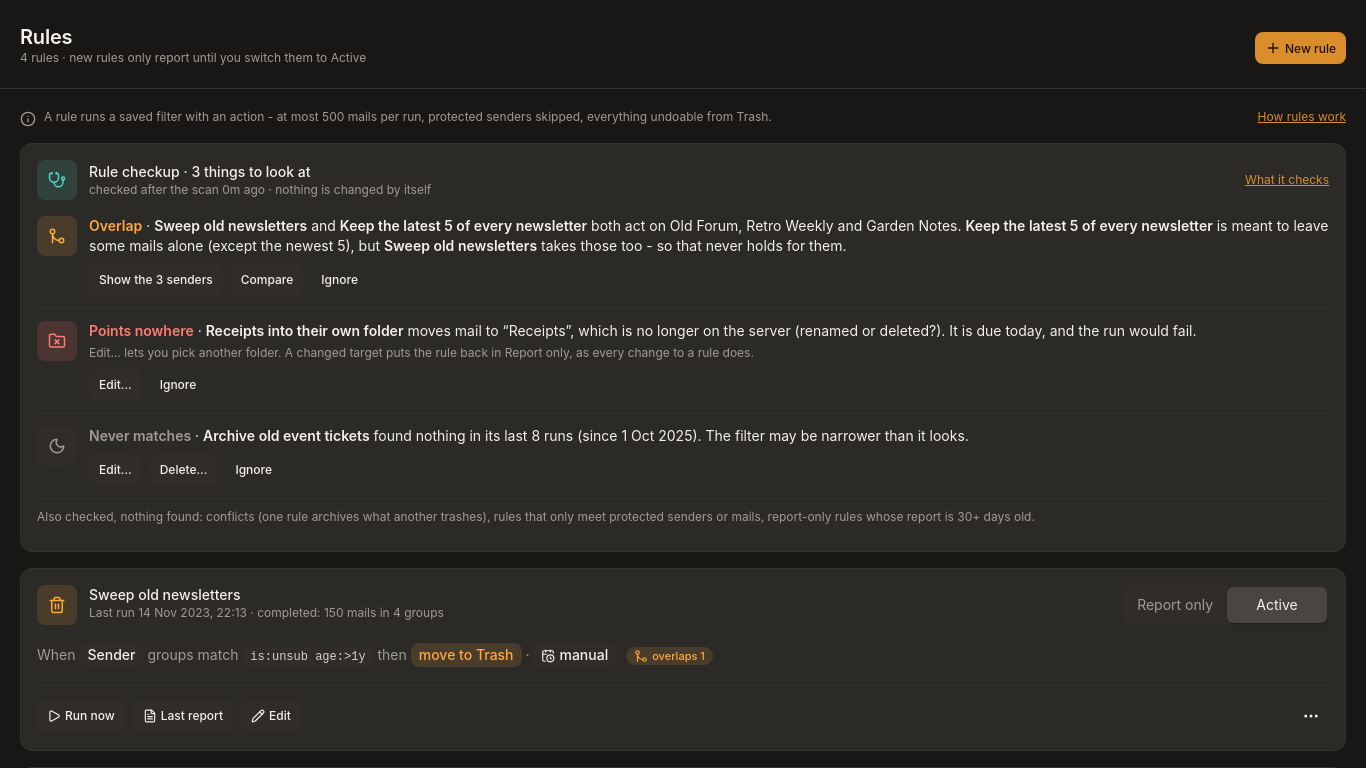
Compare: the bars, the senders in common, the note and an Edit per rule
Click the button "Compare" at (267,280), box [231, 264, 303, 296]
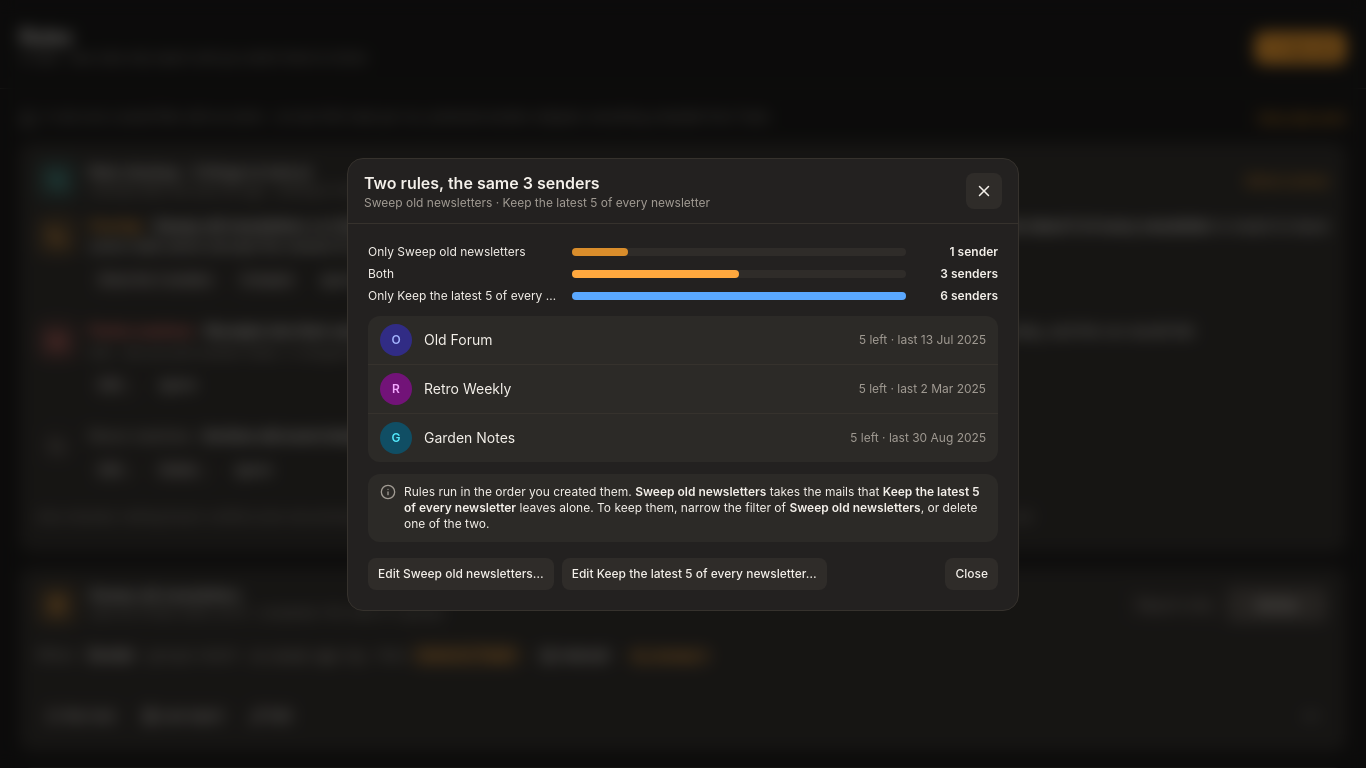
# each Edit… opens that rule in the editor and closes the sheet
Click the button "Edit Keep the latest 5 of every newsletter…" at (694,574), box [562, 558, 827, 590]
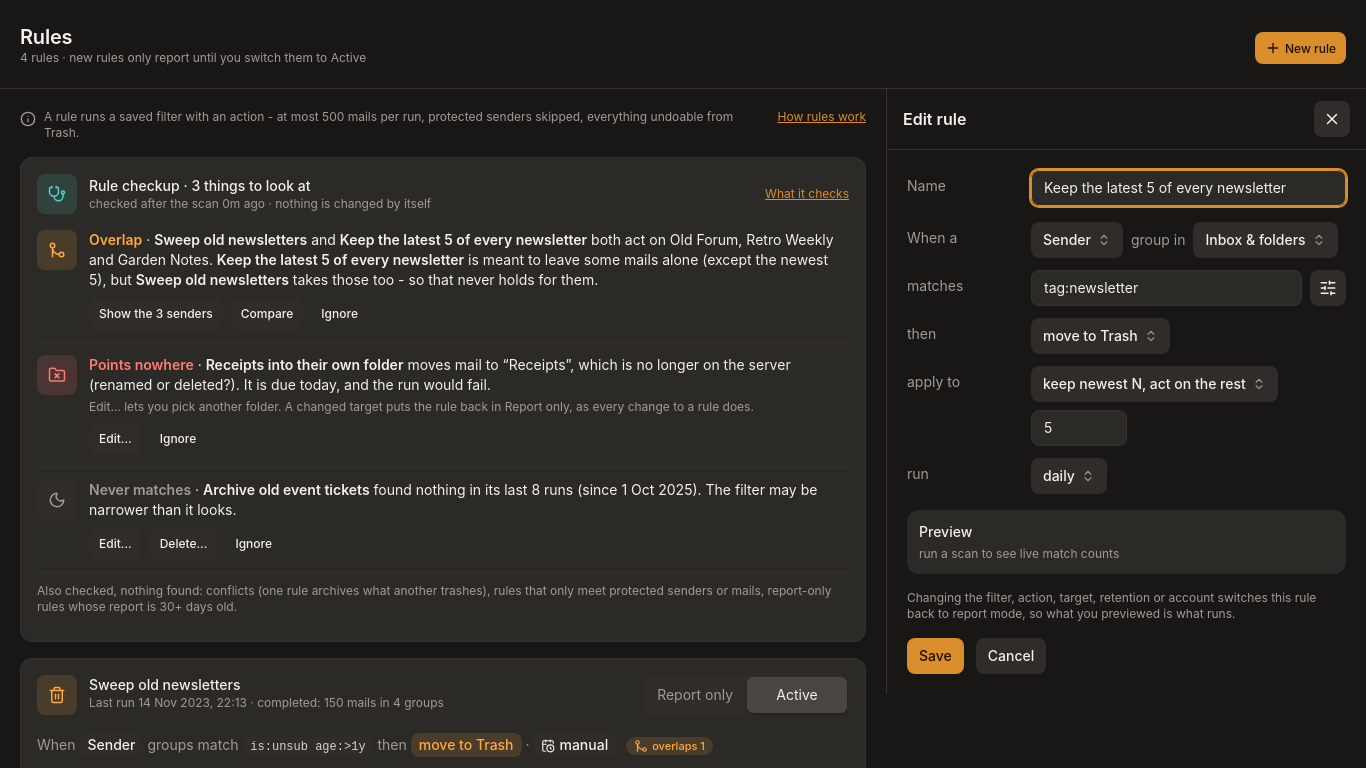
Now the field named "name" holds "Keep the latest 5 of every newsletter", box [1031, 170, 1346, 206]
